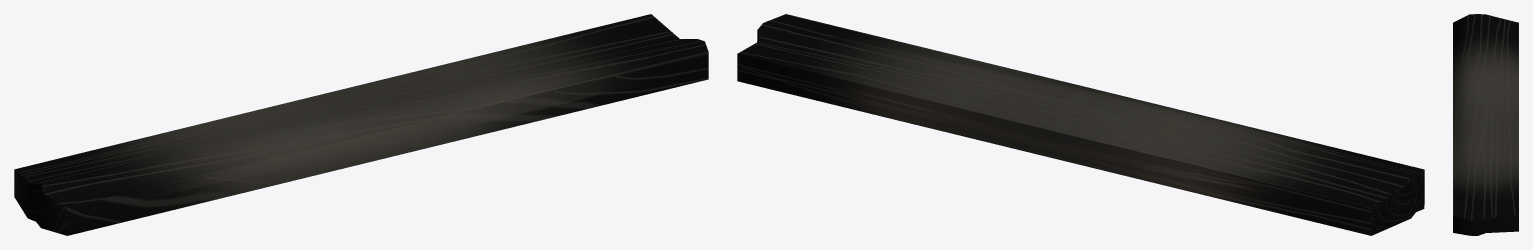
File: PLANK_01.fbx
3 renders of one model, left to right at view 1: azimuth 30°, elevation 25°; view 2: azimuth 150°, elevation 25°; view 3: azimuth 270°, elevation 25°, orthographic. The views are drawn at different scales.
Visible parts, largest first — view 1: Cube.004; view 2: Cube.004; view 3: Cube.004.
Part boxes in pixels (left/top/right/bottom): Cube.004: left=14, top=14, right=708, bottom=235; Cube.004: left=737, top=14, right=1424, bottom=235; Cube.004: left=1453, top=14, right=1518, bottom=235.
Bounding box in the file's own units: 314 × 43.62 × 18.19.
